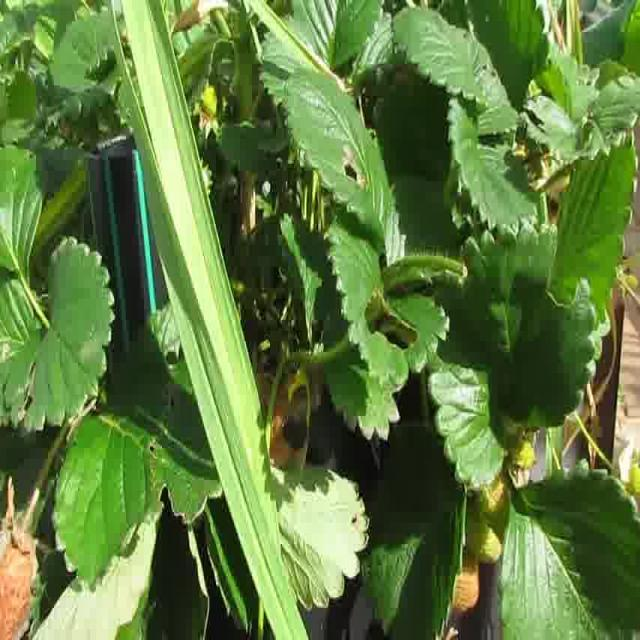Fruta sana: (477, 466, 513, 540), (464, 494, 502, 562), (450, 548, 480, 610), (508, 436, 536, 472), (621, 461, 640, 496), (201, 85, 219, 119), (621, 274, 640, 290)
Moho gris: (0, 525, 40, 640)
